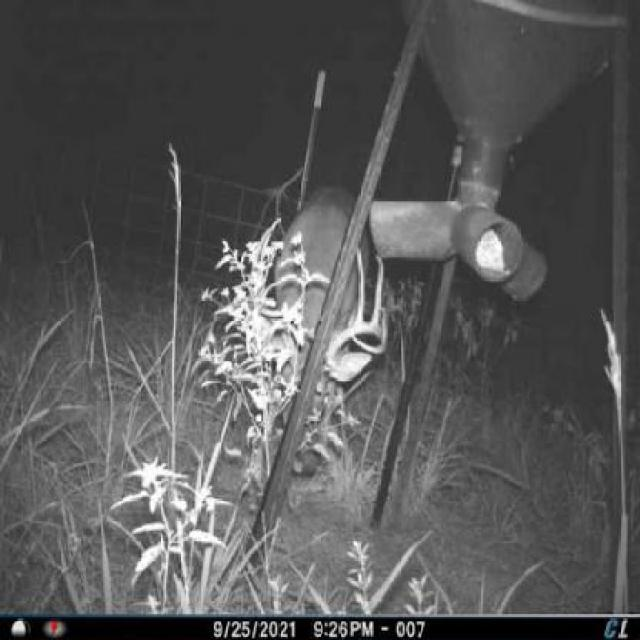Deer: (267, 172, 385, 472)
